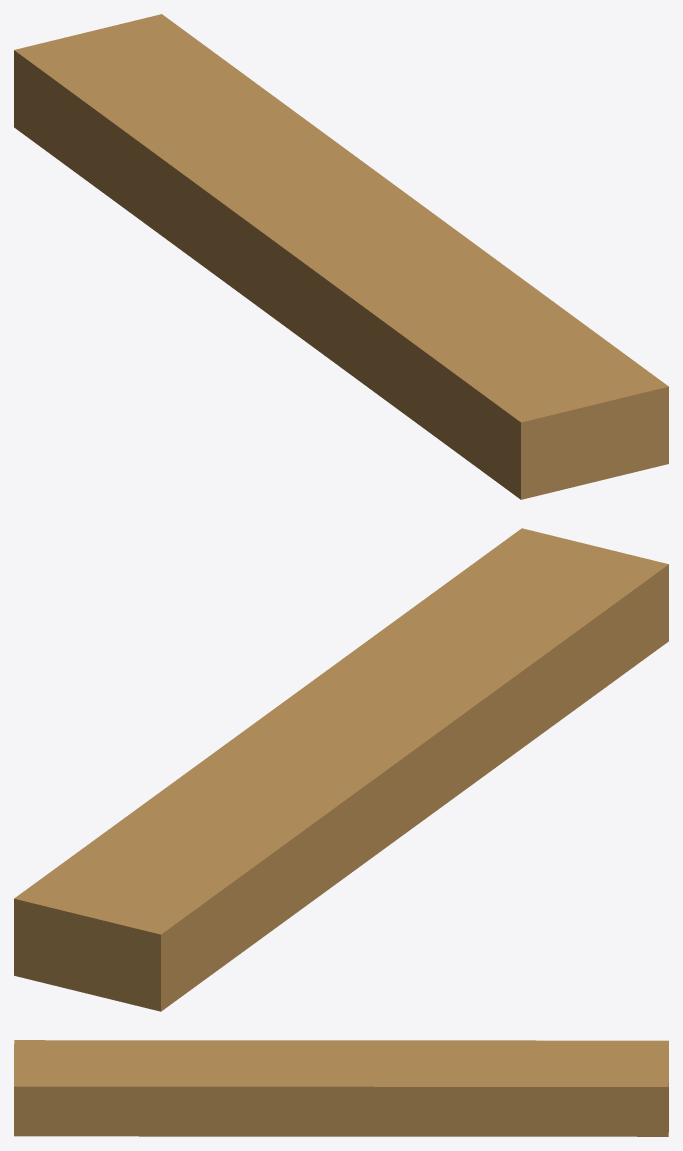
3 renders of one model, top to bottom at view 1: azimuth 30°, elevation 25°; view 2: azimuth 150°, elevation 25°; view 3: azimuth 270°, elevation 25°, orthographic. The views are drawn at different scales.
Visible parts, largest first — view 1: RUN-064-S00-NOG-00; view 2: RUN-064-S00-NOG-00; view 3: RUN-064-S00-NOG-00.
Boxes of the visible parts, <box> form: RUN-064-S00-NOG-00: <box>14,14,668,499</box>; RUN-064-S00-NOG-00: <box>14,528,668,1011</box>; RUN-064-S00-NOG-00: <box>14,1040,668,1136</box>.
Bounding box in the file's own units: 0.0908 × 0.045 × 0.5361.
